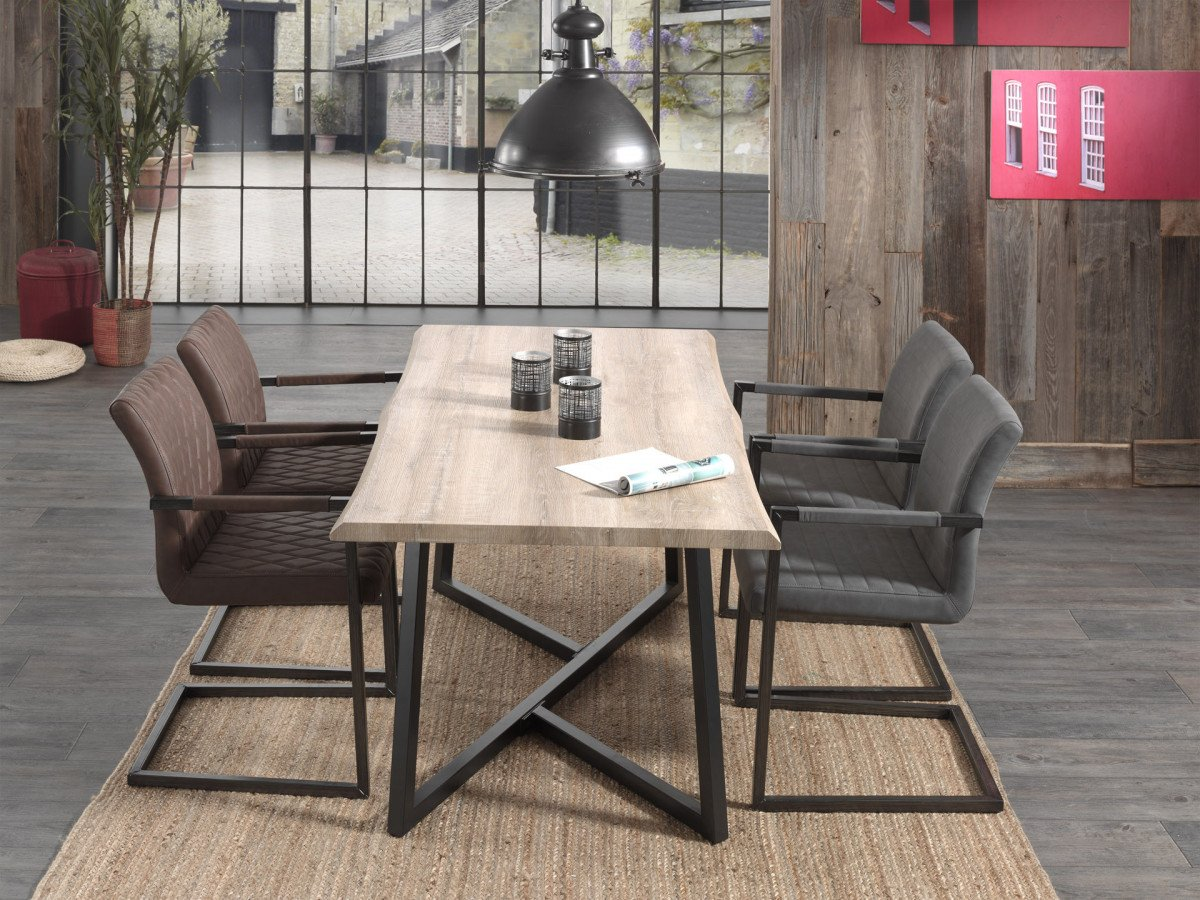chair: (727, 371, 1035, 830), (107, 350, 393, 807), (728, 311, 985, 514), (170, 296, 410, 501)
table: (326, 316, 787, 857)
